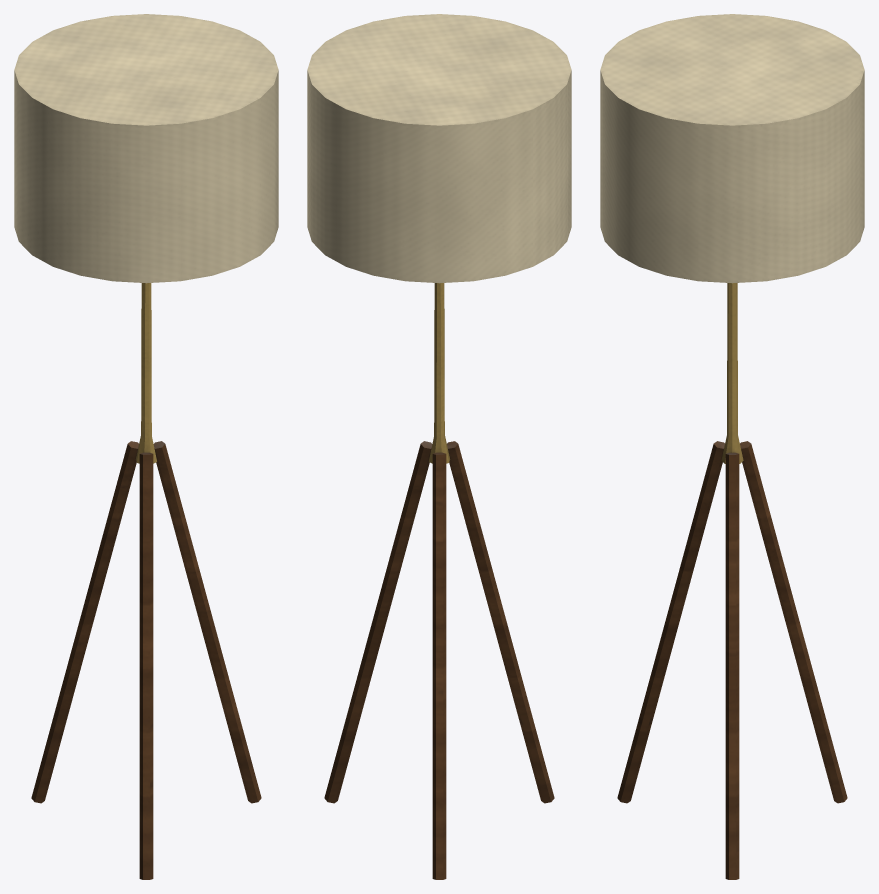
The model's file is H_FloorLamp.fbx.
The picture shows the model from 3 angles, left to right: view 1: azimuth 30°, elevation 25°; view 2: azimuth 150°, elevation 25°; view 3: azimuth 270°, elevation 25°; orthographic projection.
Parts seen in each view (by area): view 1: H_FloorLamp__H_FloorLamp_Shade, H_FloorLamp__H_FloorLamp; view 2: H_FloorLamp__H_FloorLamp_Shade, H_FloorLamp__H_FloorLamp; view 3: H_FloorLamp__H_FloorLamp_Shade, H_FloorLamp__H_FloorLamp.
Part boxes in pixels (bbox=[...]): H_FloorLamp__H_FloorLamp_Shade: bbox=[14, 14, 278, 283]; H_FloorLamp__H_FloorLamp: bbox=[31, 283, 261, 879]; H_FloorLamp__H_FloorLamp_Shade: bbox=[307, 14, 571, 283]; H_FloorLamp__H_FloorLamp: bbox=[324, 283, 554, 879]; H_FloorLamp__H_FloorLamp_Shade: bbox=[600, 14, 864, 283]; H_FloorLamp__H_FloorLamp: bbox=[617, 283, 847, 879].
Bounding box in the file's own units: 190 × 601 × 190.
Materials: 1 (1 with a texture image).
